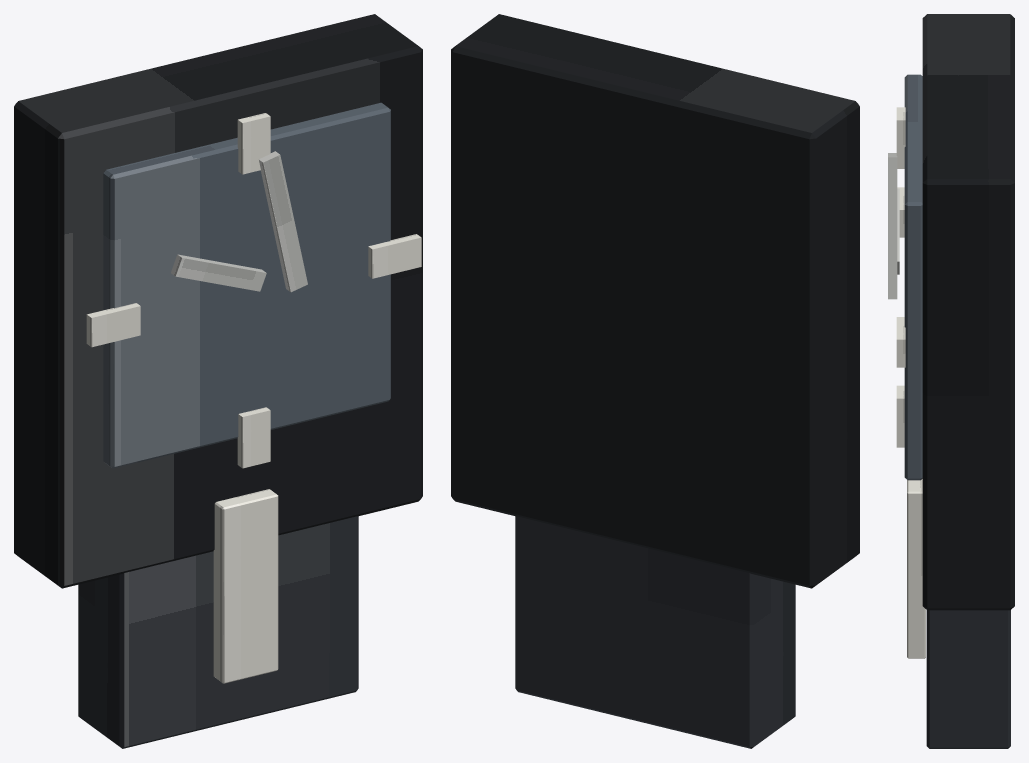
The model's file is bedroom_wall_clock_charcoal.glb.
The picture shows the model from 3 angles, left to right: view 1: azimuth 30°, elevation 25°; view 2: azimuth 150°, elevation 25°; view 3: azimuth 270°, elevation 25°; orthographic projection. The views are drawn at different scales.
Parts seen in each view (by area): view 1: ClockBack, ClockFace, ClockPendulumCase, ClockPendulum, ClockHandMinute, ClockHandHour, ClockMarker_-0.2_1.45, ClockMarker_0.0_1.25, ClockMarker_0.2_1.45, ClockMarker_0.0_1.65; view 2: ClockBack, ClockPendulumCase; view 3: ClockBack, ClockPendulumCase, ClockFace, ClockPendulum, ClockHandMinute, ClockMarker_0.0_1.65, ClockMarker_0.0_1.25, ClockMarker_0.2_1.45, ClockMarker_-0.2_1.45, ClockHandHour.
Part boxes in pixels (x1,y1,x2,y2): ClockBack: [14, 14, 422, 588]; ClockFace: [103, 102, 390, 468]; ClockPendulumCase: [78, 516, 358, 748]; ClockPendulum: [213, 489, 278, 683]; ClockHandMinute: [258, 151, 307, 292]; ClockHandHour: [171, 254, 266, 291]; ClockMarker_-0.2_1.45: [86, 303, 140, 347]; ClockMarker_0.0_1.25: [237, 407, 270, 468]; ClockMarker_0.2_1.45: [368, 234, 421, 278]; ClockMarker_0.0_1.65: [237, 113, 270, 174]; ClockBack: [451, 14, 859, 588]; ClockPendulumCase: [515, 516, 795, 748]; ClockBack: [922, 14, 1014, 610]; ClockPendulumCase: [926, 610, 1010, 748]; ClockFace: [904, 74, 922, 480]; ClockPendulum: [907, 479, 925, 658]; ClockHandMinute: [888, 153, 897, 299]; ClockMarker_0.0_1.65: [896, 107, 905, 168]; ClockMarker_0.0_1.25: [896, 385, 904, 447]; ClockMarker_0.2_1.45: [896, 317, 905, 367]; ClockMarker_-0.2_1.45: [897, 187, 904, 237]; ClockHandHour: [897, 188, 899, 274].
Bounding box in the file's own units: 0.52 × 0.86 × 0.165.
Materials: 1 (1 with a texture image).
